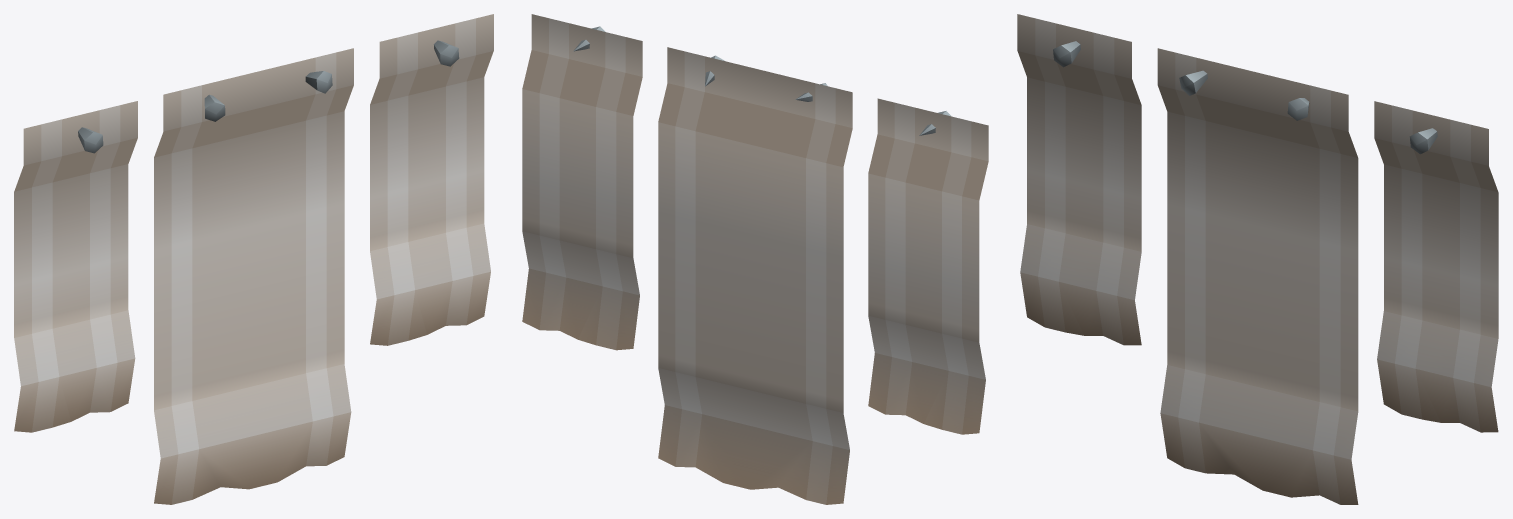
The model's file is banner_triple_white.obj.
The picture shows the model from 3 angles, left to right: view 1: azimuth 30°, elevation 25°; view 2: azimuth 150°, elevation 25°; view 3: azimuth 330°, elevation 25°; orthographic projection. The views are drawn at different scales.
Visible parts, largest first — view 1: banner_triple_white; view 2: banner_triple_white; view 3: banner_triple_white.
Boxes of the visible parts, x1,y1,x2,y2 form: banner_triple_white: (14,14,493,504); banner_triple_white: (522,14,988,504); banner_triple_white: (1017,14,1498,504).
Size of the model in its own units: 3.7 by 3.2 by 0.3623.
1 material, 1 textured.
